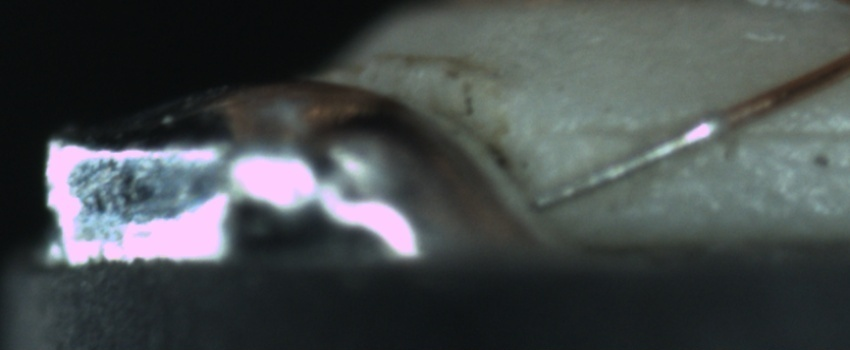DL: (537, 89, 839, 173)
TS: (529, 118, 722, 210)
